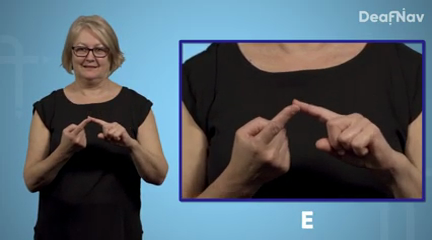E: (226, 90, 394, 191)
